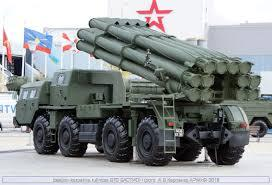MIL_SAM_TEL: (16, 16, 264, 167)
